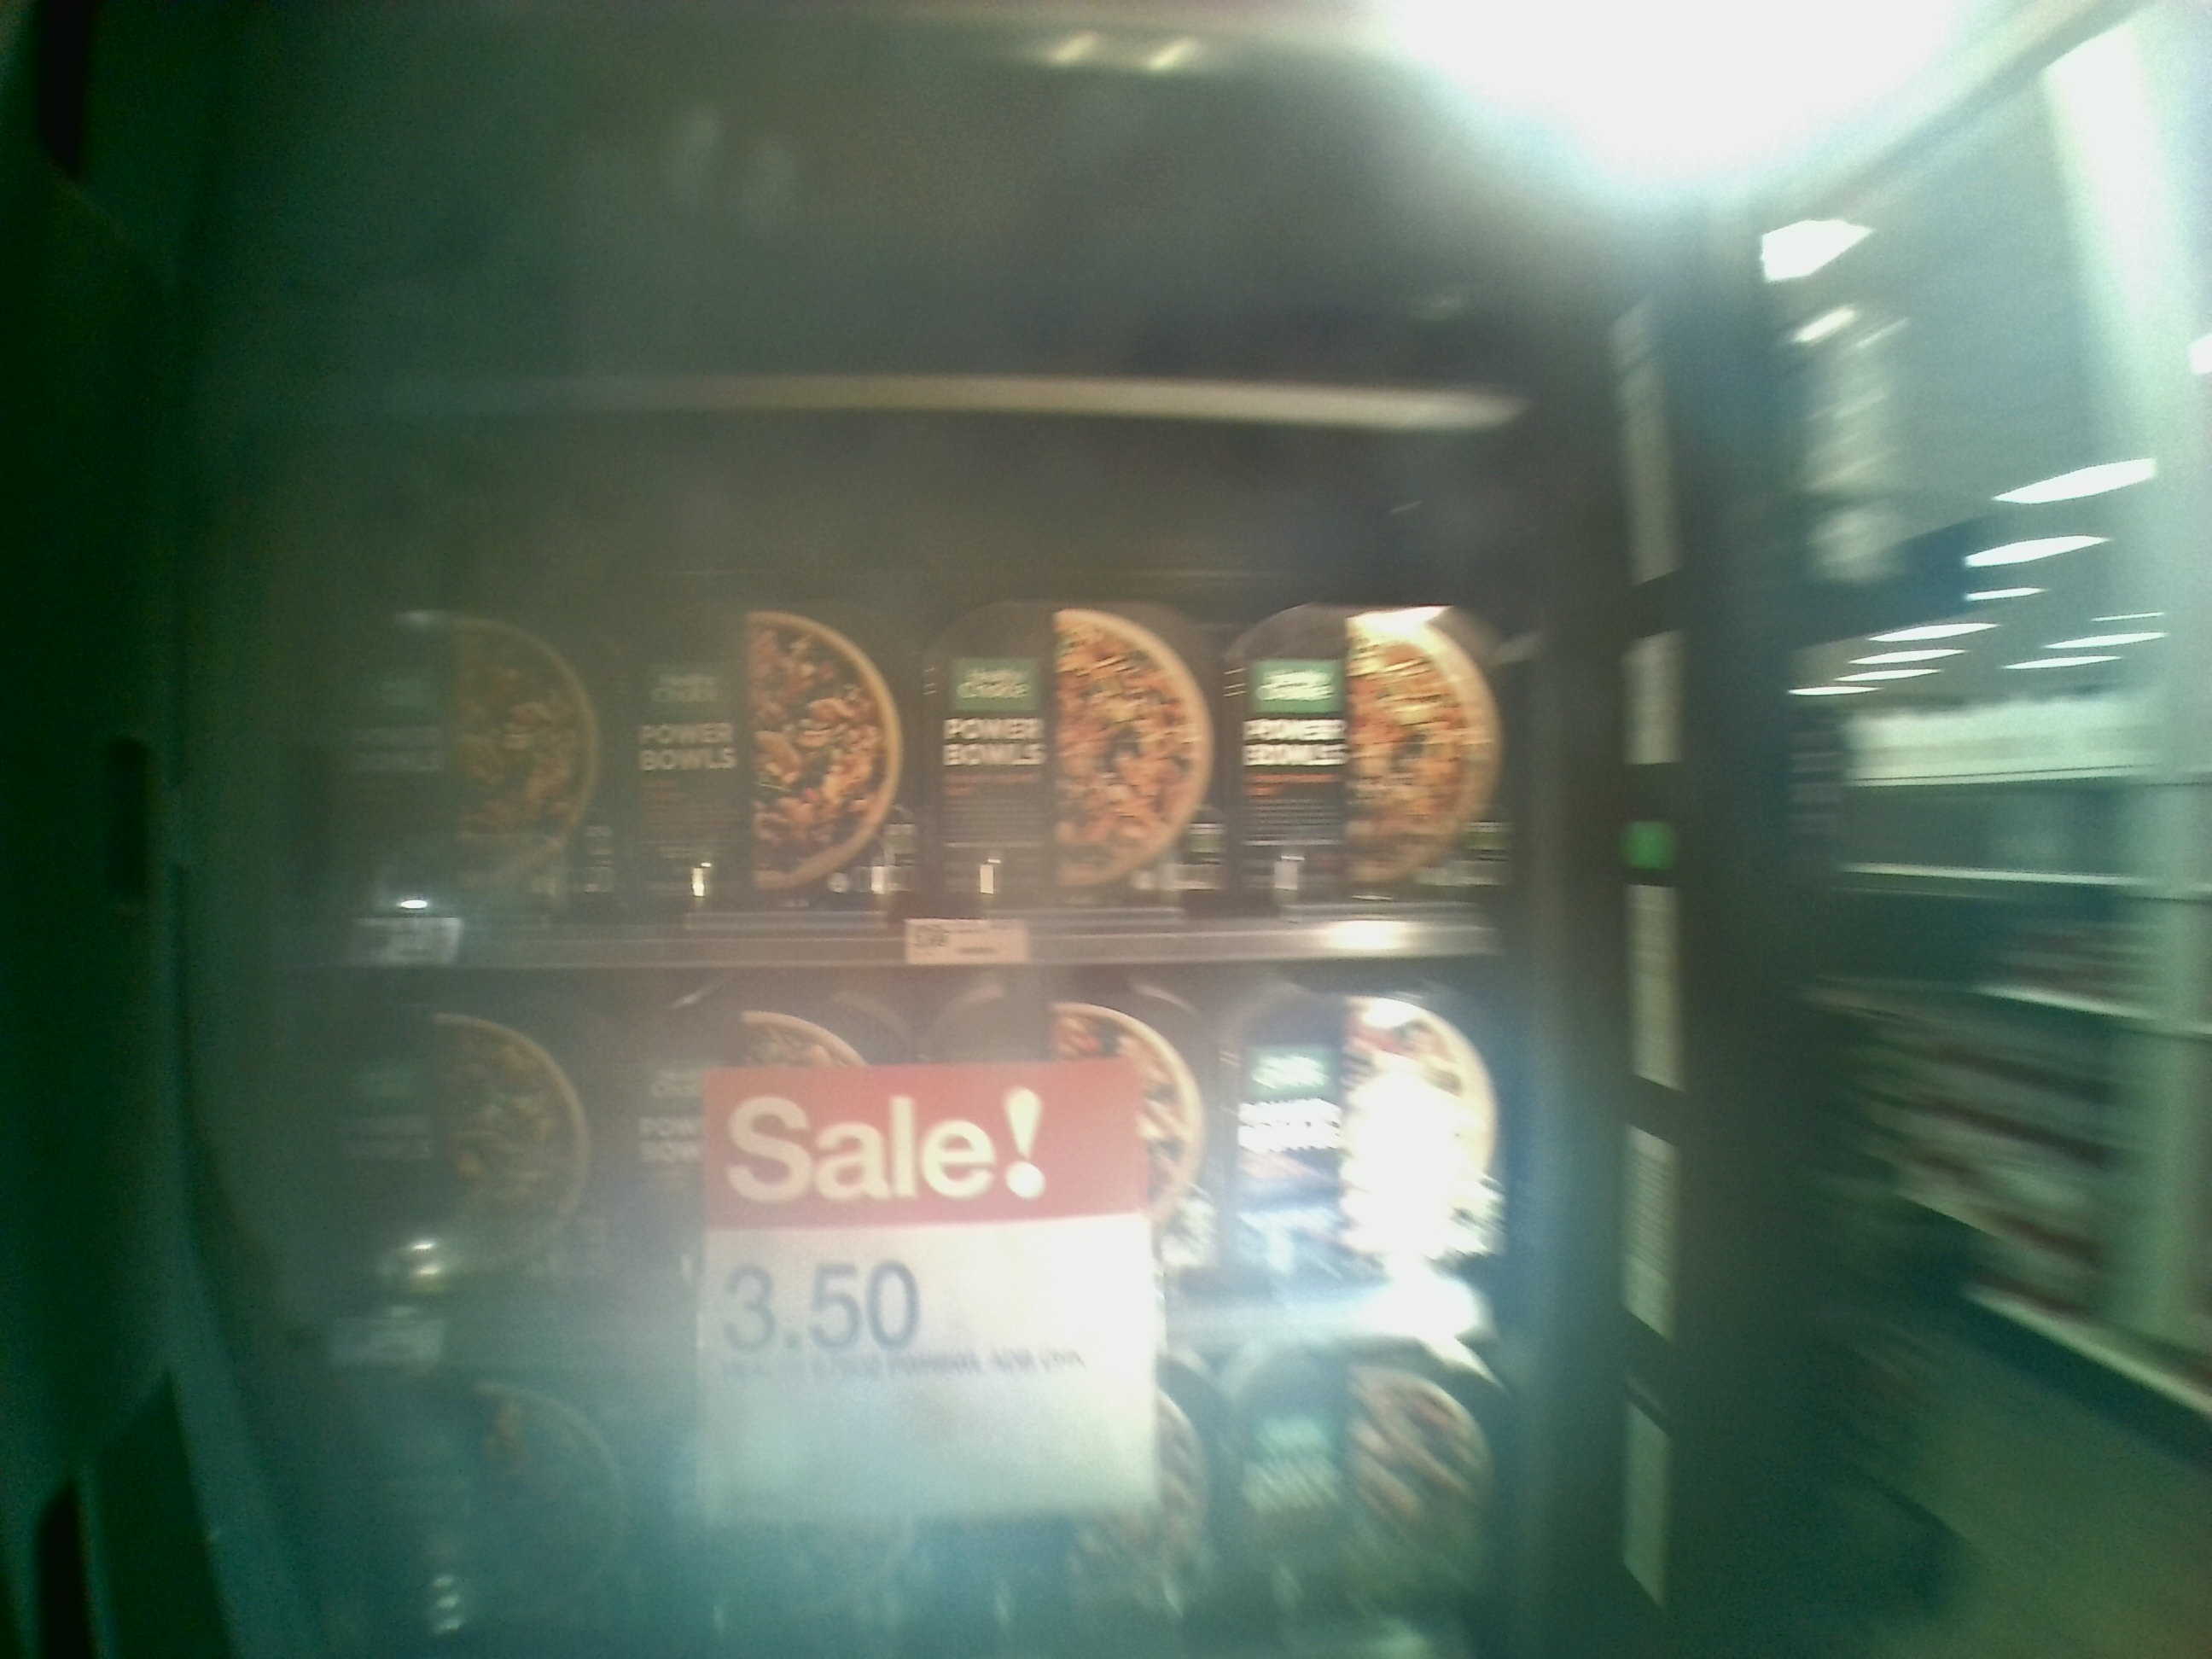shelf: (240, 369, 1489, 943)
